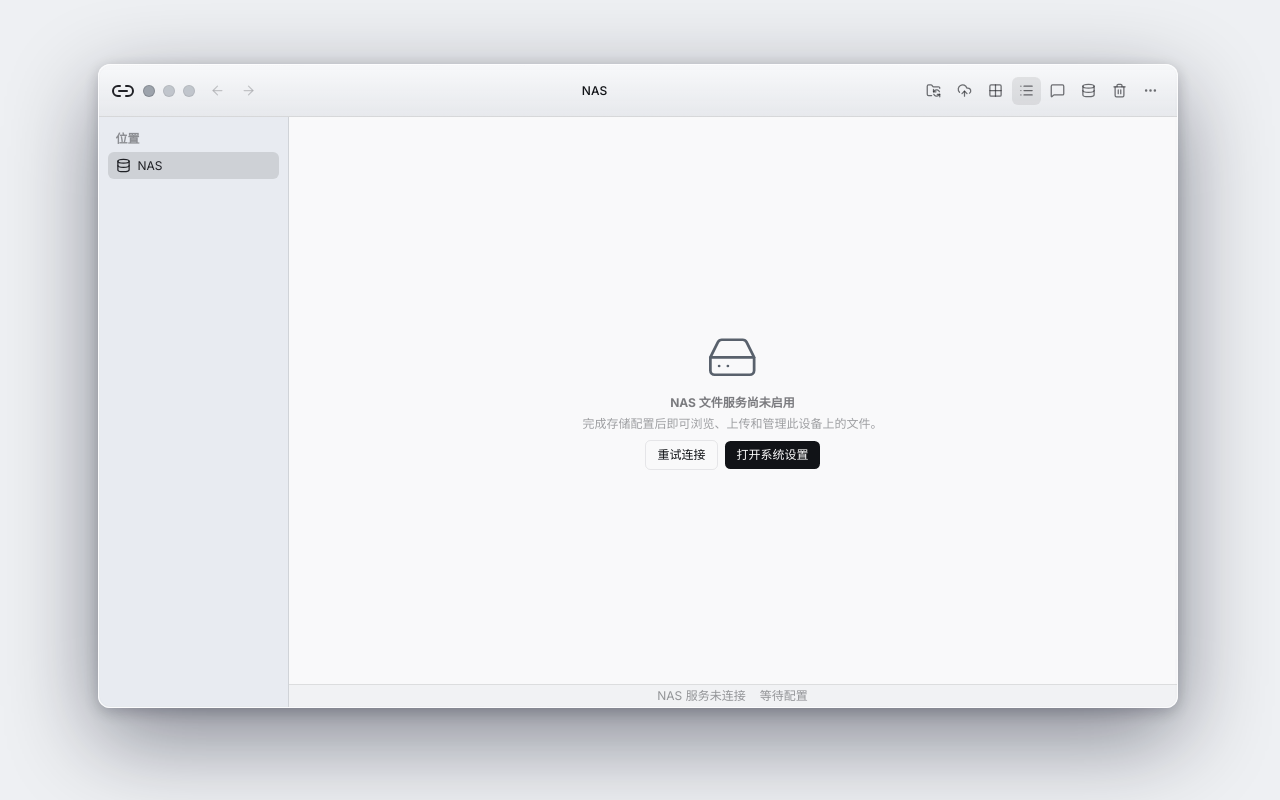
it: Echo OS file manager transfers › shows a recoverable product state when the NAS route is unavailable
Expected: the text "NAS 文件服务尚未启用" is shown, x1=670 y1=394 x2=795 y2=412
Expected: the button named "上传文件" is disabled, x1=950 y1=76 x2=978 y2=104
Click the button "打开系统设置" at (773, 455), box x1=725 y1=441 x2=820 y2=469
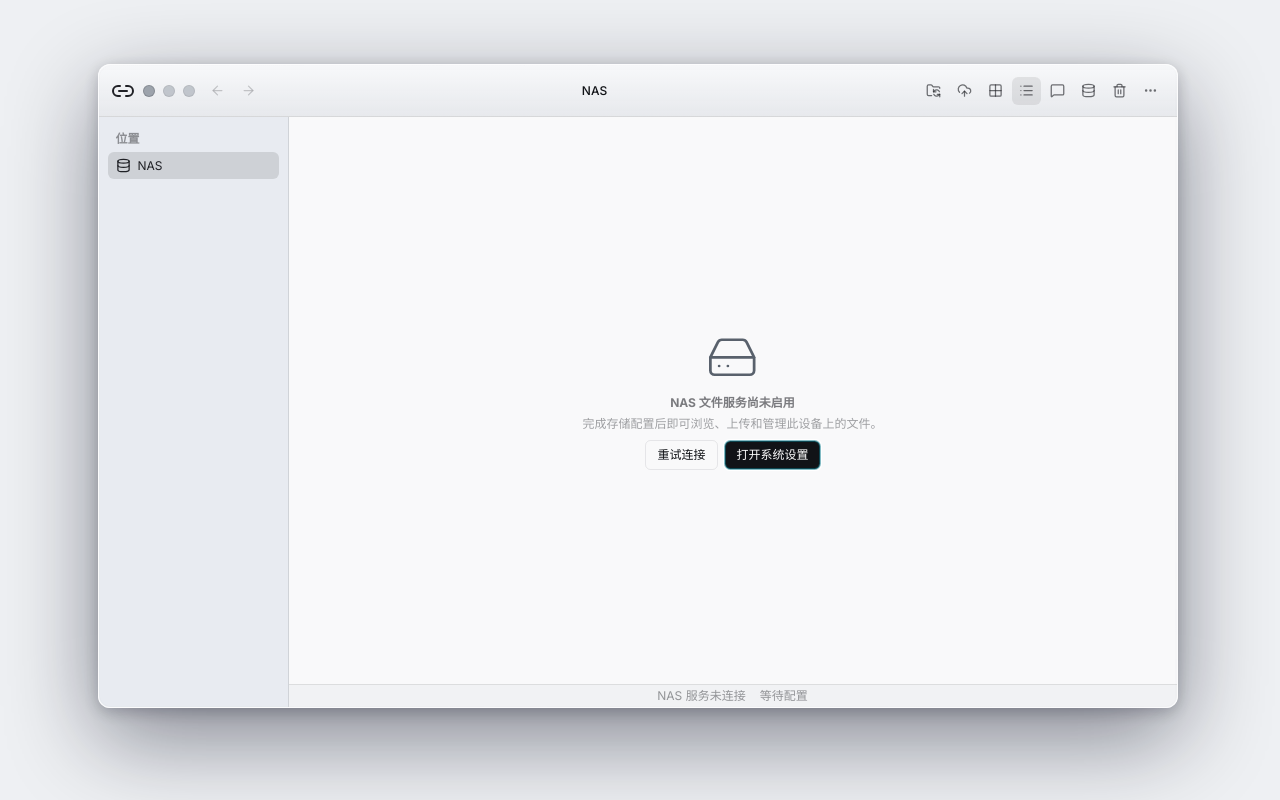
Click the button "重试连接" at (681, 455), box x1=645 y1=440 x2=718 y2=470
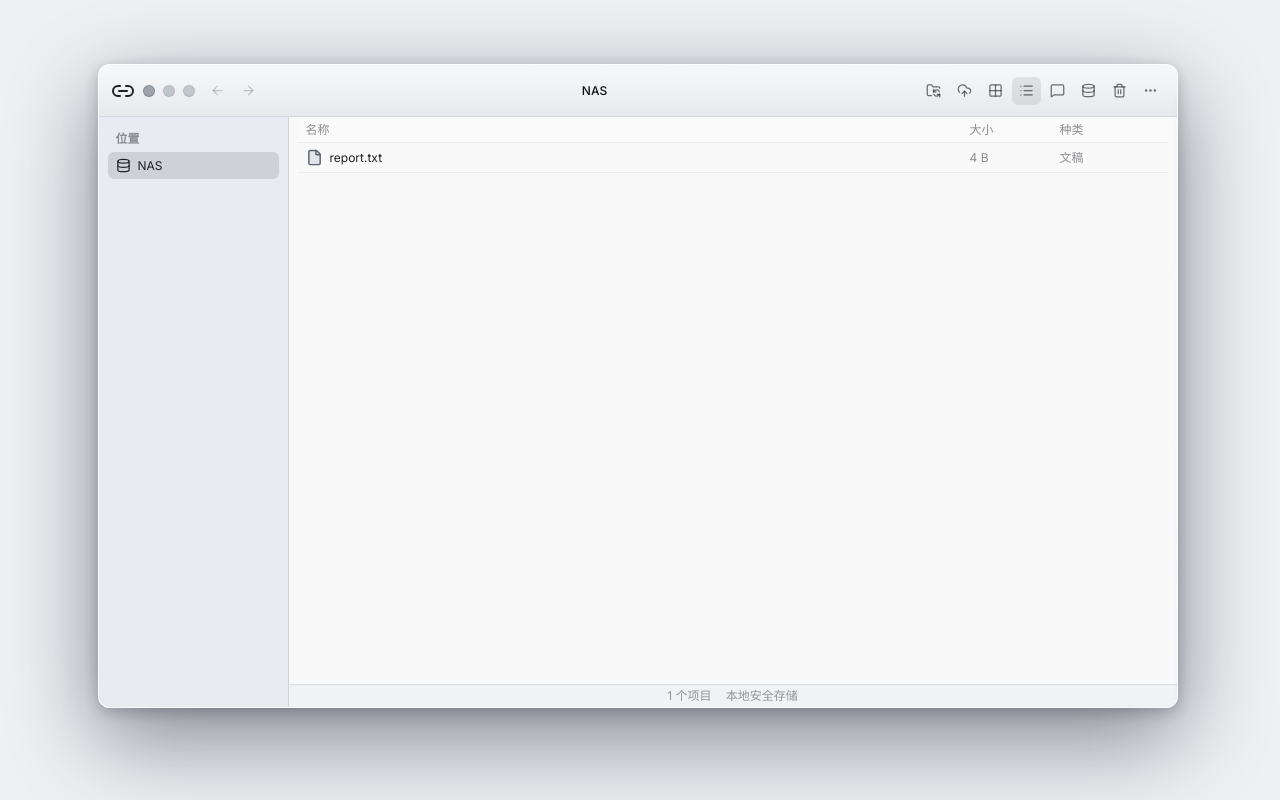
Expected: the button named "上传文件" is enabled, x1=950 y1=76 x2=978 y2=104
Expected: the text "report.txt" is shown, x1=330 y1=148 x2=382 y2=166
